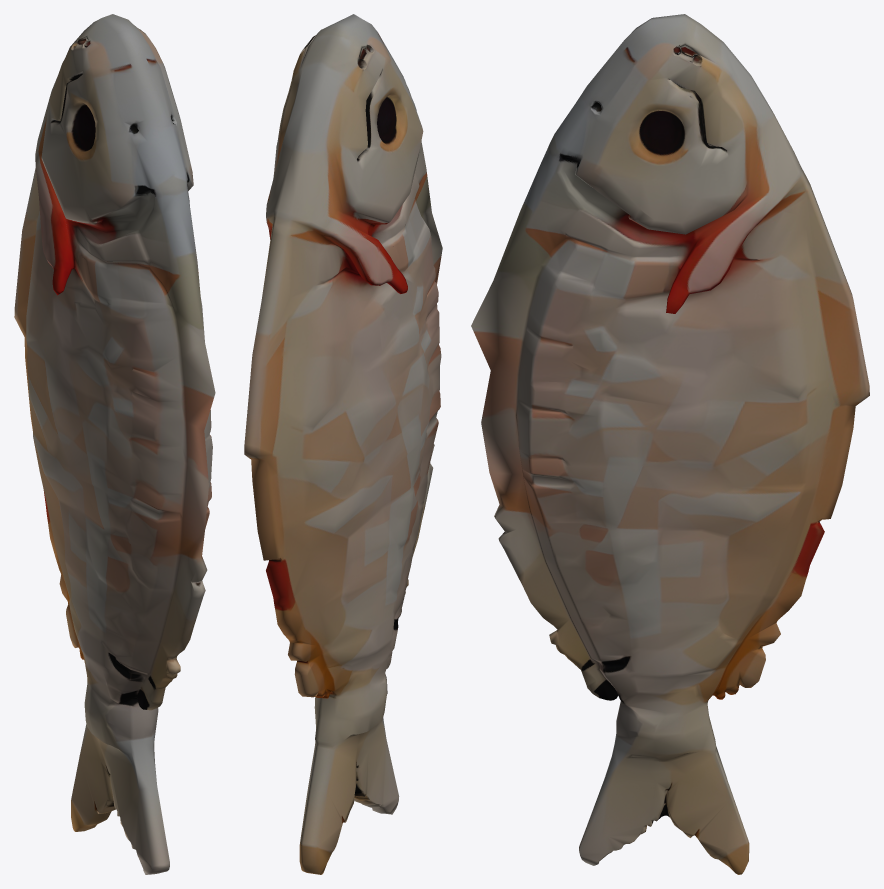
File: fish.glb
3 renders of one model, left to right at view 1: azimuth 30°, elevation 25°; view 2: azimuth 150°, elevation 25°; view 3: azimuth 270°, elevation 25°, orthographic. The views are drawn at different scales.
Visible parts, largest first — view 1: tripo_node_88cfc120-134b-462f-b4f0-1594b082f3ee; view 2: tripo_node_88cfc120-134b-462f-b4f0-1594b082f3ee; view 3: tripo_node_88cfc120-134b-462f-b4f0-1594b082f3ee.
Part boxes in pixels (x1=…): tripo_node_88cfc120-134b-462f-b4f0-1594b082f3ee: x1=14, y1=14, x2=215, y2=874; tripo_node_88cfc120-134b-462f-b4f0-1594b082f3ee: x1=244, y1=14, x2=442, y2=874; tripo_node_88cfc120-134b-462f-b4f0-1594b082f3ee: x1=471, y1=14, x2=869, y2=874.
Bounding box in the file's own units: 0.1519 × 0.9995 × 0.4233.
Materials: 1 (1 with a texture image).
